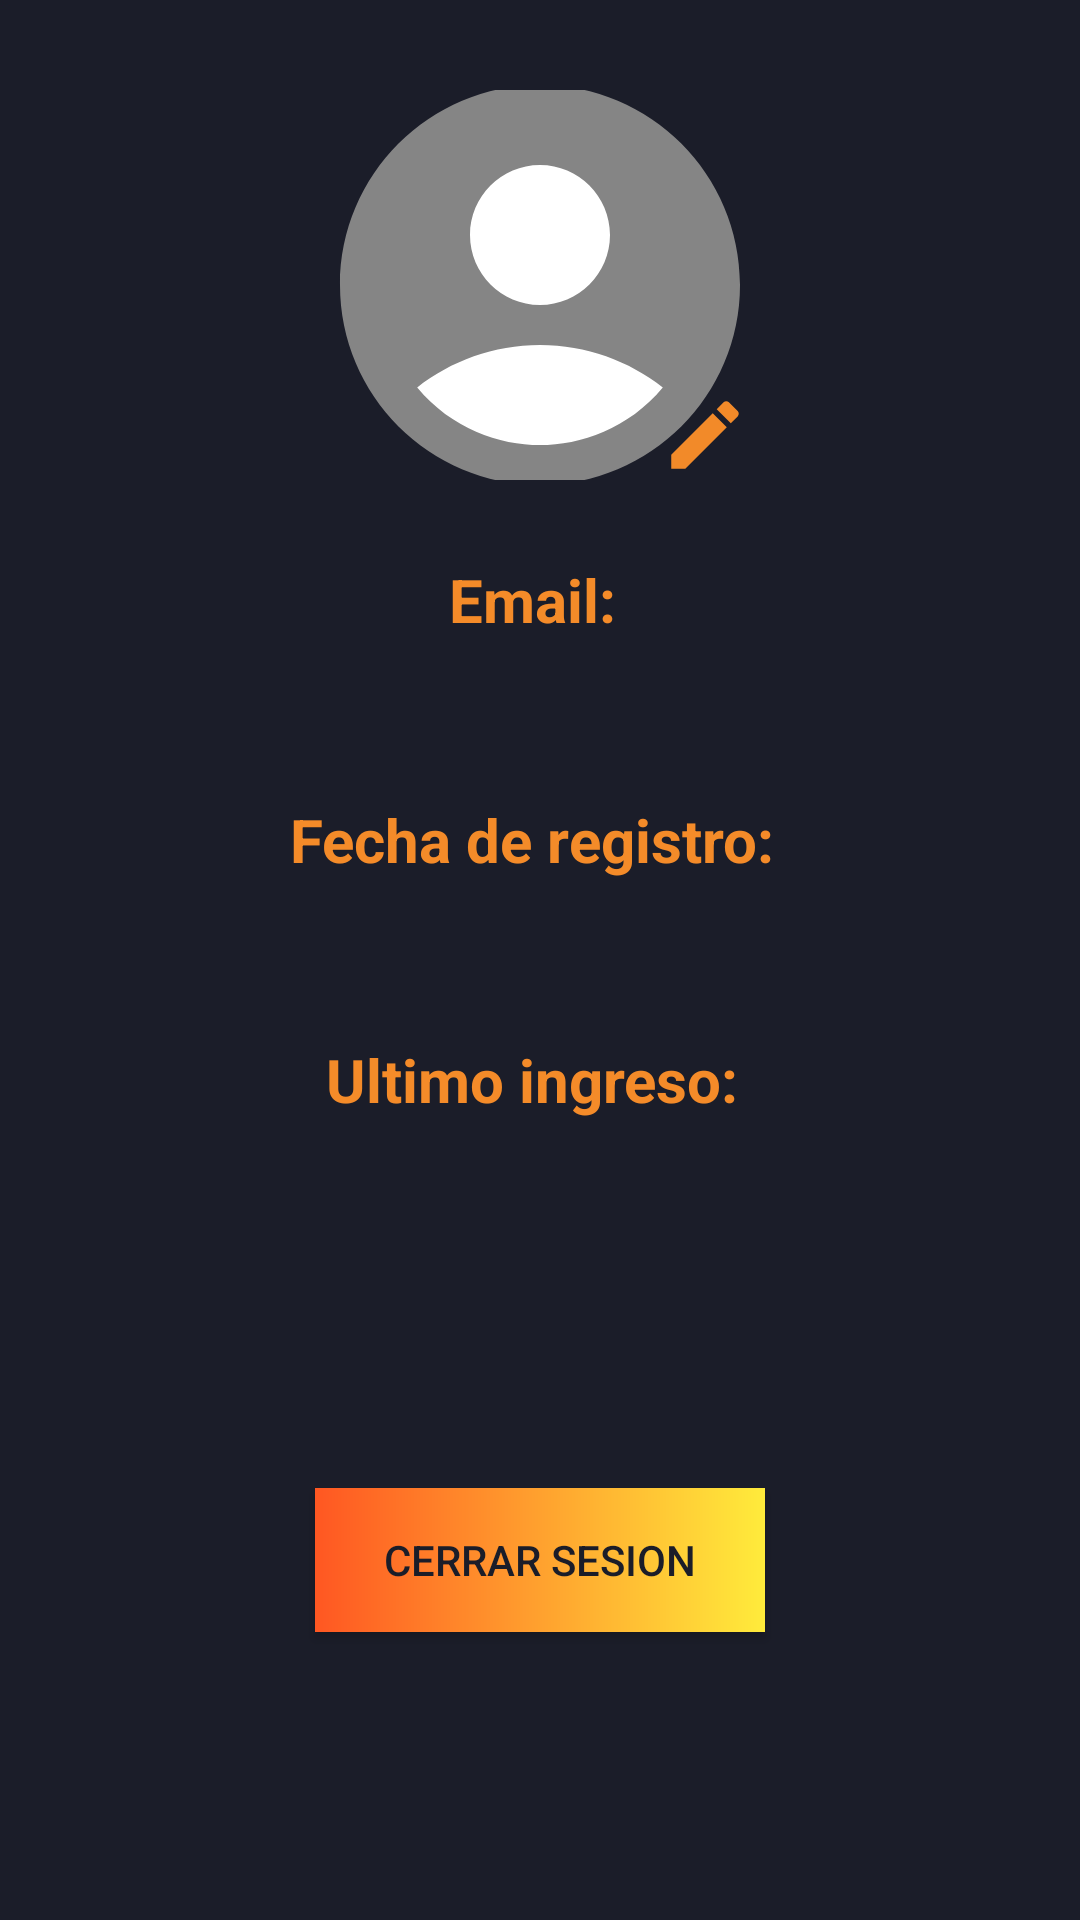

Icon bounding boxes for this 1080*1920 phone screenshot, format (x1, y1, x2, y2):
edit: (671, 401, 739, 469)
